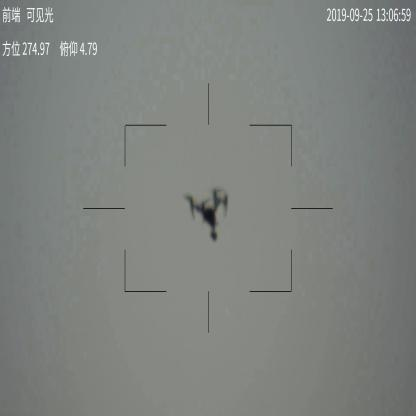uav: (182, 182, 229, 244)
